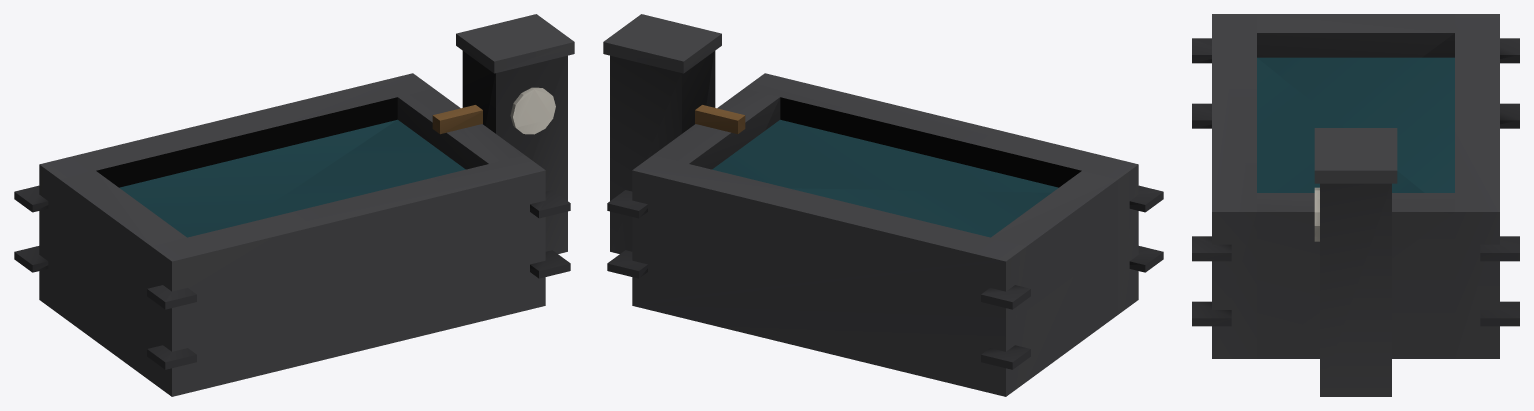
File: rome_lacus.glb
The picture shows the model from 3 angles, left to right: view 1: azimuth 30°, elevation 25°; view 2: azimuth 150°, elevation 25°; view 3: azimuth 270°, elevation 25°; orthographic projection. The views are drawn at different scales.
Visible parts, largest first — view 1: rome_lacus; view 2: rome_lacus; view 3: rome_lacus.
Boxes of the visible parts, <box> form: rome_lacus: <box>14,14,574,396</box>; rome_lacus: <box>603,14,1163,396</box>; rome_lacus: <box>1192,14,1519,396</box>.
Bounding box in the file's own units: 3.24 × 1.4 × 1.82.
